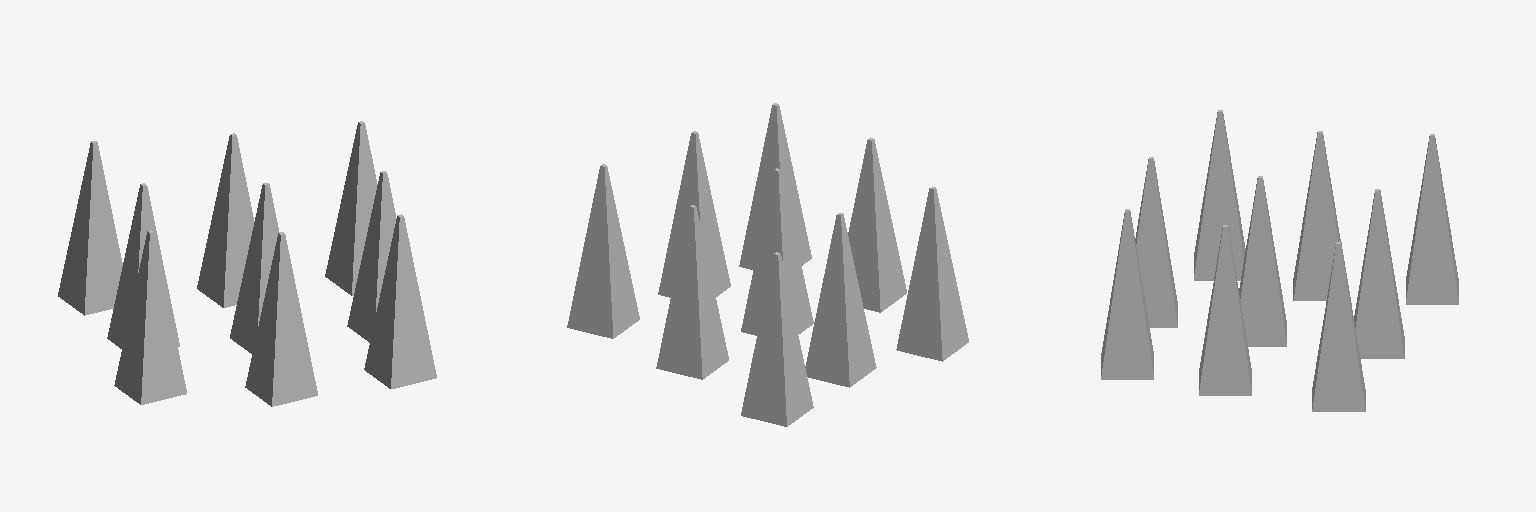
The model's file is Grass_2.obj.
The picture shows the model from 3 angles: view 1: azimuth 30°, elevation 25°; view 2: azimuth 150°, elevation 25°; view 3: azimuth 270°, elevation 25°; orthographic projection.
Parts seen in each view (by area): view 1: Cube_Cube.007, Cube.007_Cube.001, Cube.004_Cube.002, Cube.008_Cube.004, Cube.001_Cube.008, Cube.005_Cube.003, Cube.006_Cube.000, Cube.003_Cube.010, Cube.002_Cube.009; view 2: Cube.001_Cube.008, Cube.008_Cube.004, Cube.004_Cube.002, Cube.005_Cube.003, Cube.002_Cube.009, Cube_Cube.007, Cube.006_Cube.000, Cube.003_Cube.010, Cube.007_Cube.001; view 3: Cube.003_Cube.010, Cube.008_Cube.004, Cube.007_Cube.001, Cube.005_Cube.003, Cube.001_Cube.008, Cube.006_Cube.000, Cube.002_Cube.009, Cube.004_Cube.002, Cube_Cube.007.
Boxes of the visible parts, x1=… form: Cube_Cube.007: x1=245, y1=232, x2=317, y2=406; Cube.007_Cube.001: x1=364, y1=214, x2=436, y2=388; Cube.004_Cube.002: x1=114, y1=230, x2=186, y2=404; Cube.008_Cube.004: x1=58, y1=141, x2=122, y2=315; Cube.001_Cube.008: x1=197, y1=133, x2=254, y2=307; Cube.005_Cube.003: x1=325, y1=121, x2=377, y2=295; Cube.006_Cube.000: x1=230, y1=183, x2=279, y2=353; Cube.003_Cube.010: x1=347, y1=171, x2=396, y2=342; Cube.002_Cube.009: x1=107, y1=183, x2=179, y2=348; Cube.001_Cube.008: x1=656, y1=205, x2=728, y2=379; Cube.008_Cube.004: x1=741, y1=252, x2=813, y2=426; Cube.004_Cube.002: x1=896, y1=187, x2=968, y2=361; Cube.005_Cube.003: x1=567, y1=164, x2=639, y2=338; Cube.002_Cube.009: x1=805, y1=213, x2=876, y2=387; Cube_Cube.007: x1=848, y1=138, x2=906, y2=312; Cube.006_Cube.000: x1=741, y1=168, x2=813, y2=335; Cube.003_Cube.010: x1=658, y1=131, x2=730, y2=297; Cube.007_Cube.001: x1=739, y1=103, x2=811, y2=269; Cube.003_Cube.010: x1=1199, y1=225, x2=1251, y2=395; Cube.008_Cube.004: x1=1406, y1=134, x2=1458, y2=304; Cube.007_Cube.001: x1=1101, y1=209, x2=1153, y2=379; Cube.005_Cube.003: x1=1312, y1=242, x2=1365, y2=411; Cube.001_Cube.008: x1=1354, y1=189, x2=1404, y2=358; Cube.006_Cube.000: x1=1239, y1=176, x2=1286, y2=346; Cube.002_Cube.009: x1=1293, y1=131, x2=1340, y2=300; Cube.004_Cube.002: x1=1194, y1=110, x2=1245, y2=280; Cube_Cube.007: x1=1135, y1=157, x2=1177, y2=327.
Bounding box in the file's own units: 0.687 × 0.3284 × 0.6738.